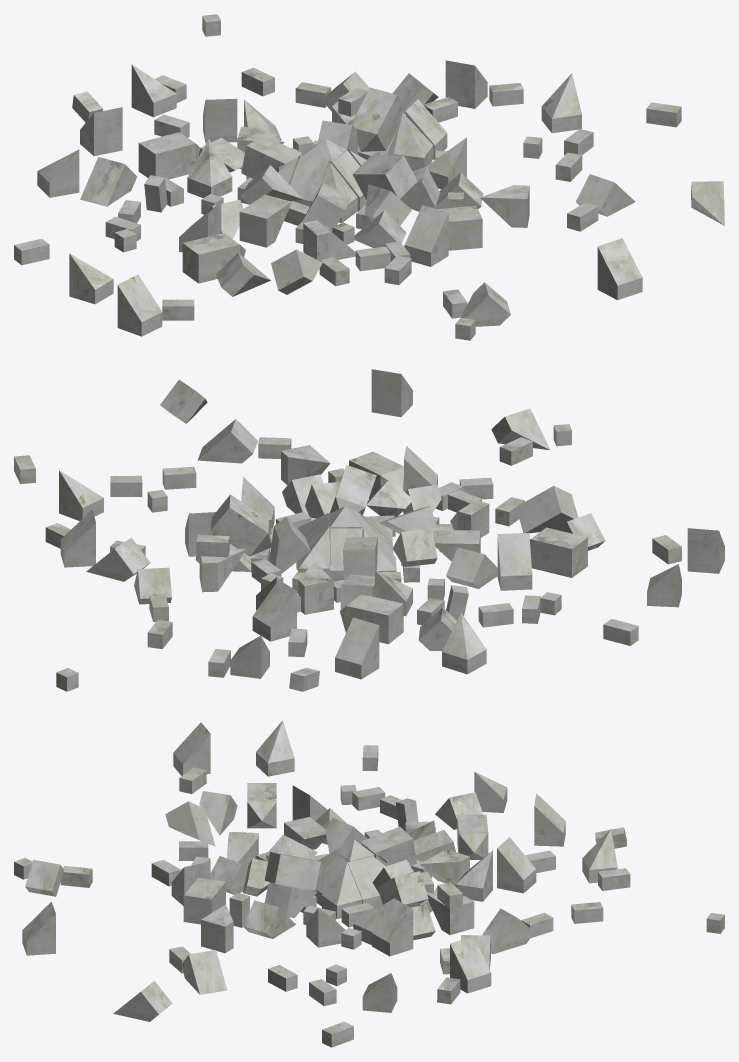
Rendered from Rubble.gltf.
The picture shows the model from 3 angles, top to bottom: view 1: azimuth 30°, elevation 25°; view 2: azimuth 150°, elevation 25°; view 3: azimuth 270°, elevation 25°; orthographic projection. The views are drawn at different scales.
Visible parts, largest first — view 1: Cube_cell.023; view 2: Cube_cell.023; view 3: Cube_cell.023.
Boxes of the visible parts, x1=… form: Cube_cell.023: x1=14, y1=14, x2=724, y2=340; Cube_cell.023: x1=14, y1=369, x2=724, y2=691; Cube_cell.023: x1=14, y1=720, x2=724, y2=1047.
Bounding box in the file's own units: 58.14 × 5.5 × 60.39.
1 material, 1 textured.
